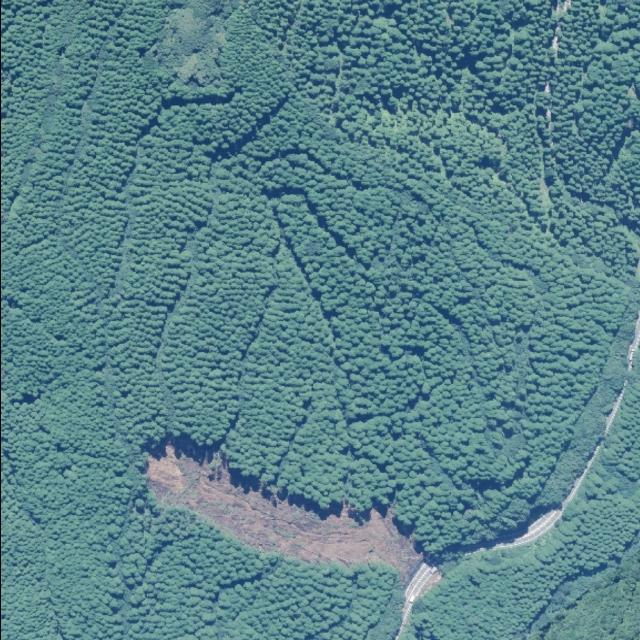landslide: (145, 445, 422, 582)
